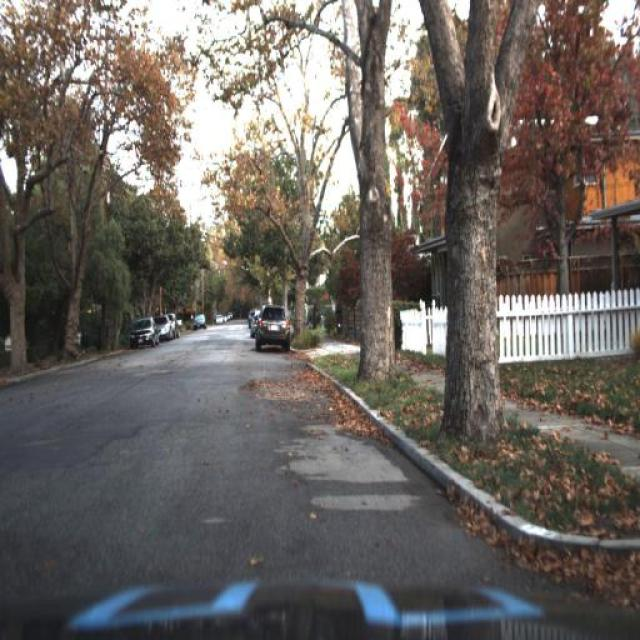car: (253, 300, 294, 356), (128, 314, 158, 348), (248, 310, 264, 350), (156, 314, 169, 346), (193, 308, 208, 329)
